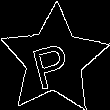P_N: (31, 30, 78, 89)
